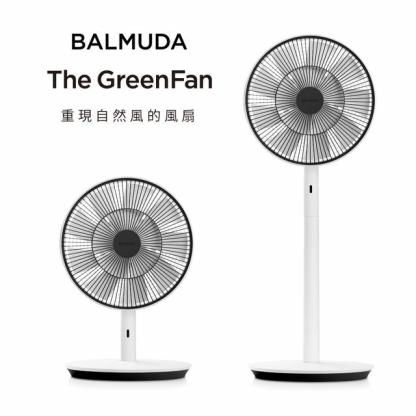fan: (235, 28, 382, 393), (52, 168, 197, 384)
